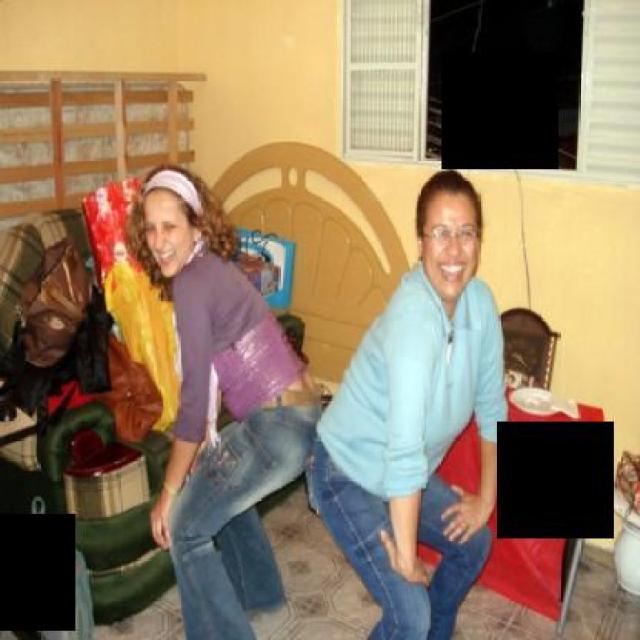plastic bag: (103, 255, 183, 437), (8, 494, 95, 638)
